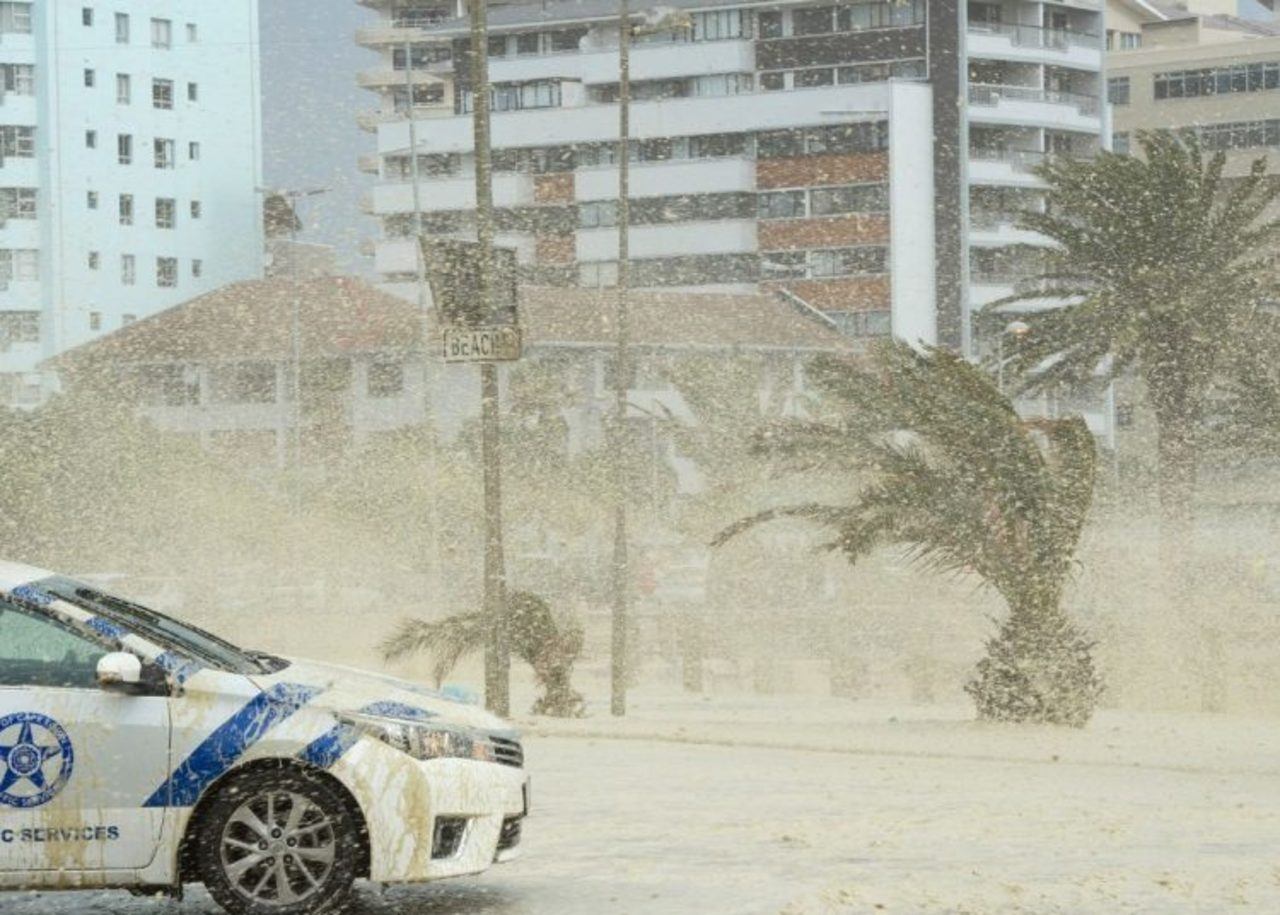car: (1, 547, 537, 914)
